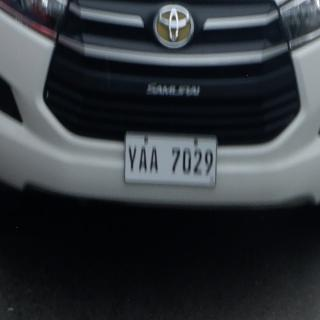license: (125, 133, 218, 189)
